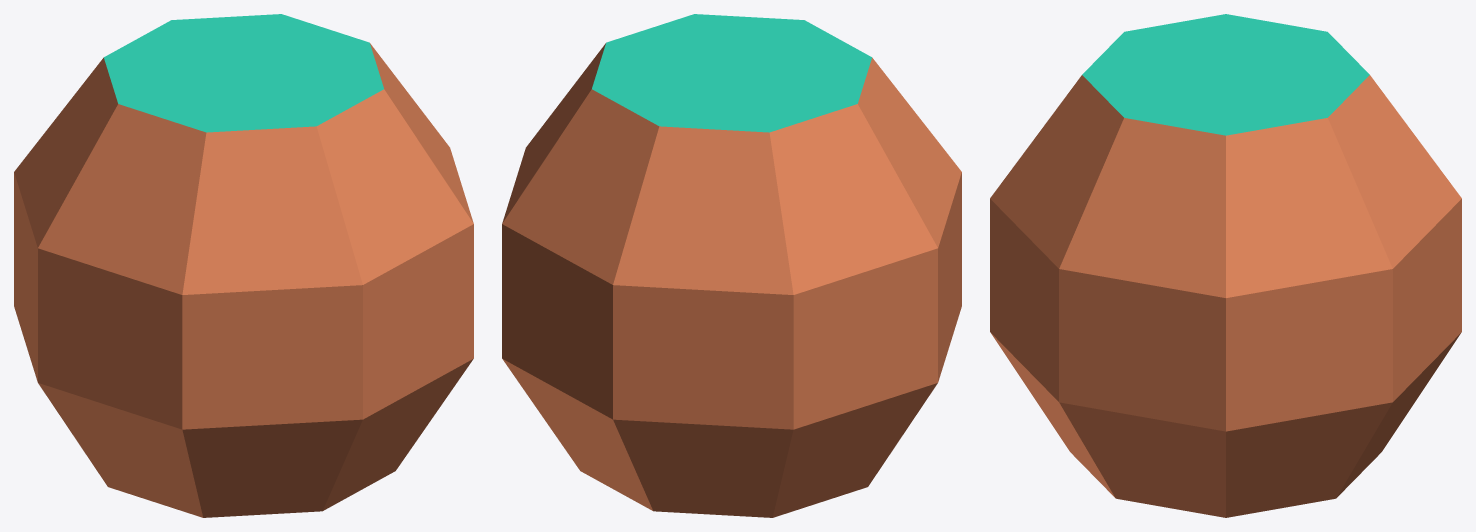
The model's file is rock_smallH.fbx.
3 renders of one model, left to right at view 1: azimuth 30°, elevation 25°; view 2: azimuth 150°, elevation 25°; view 3: azimuth 270°, elevation 25°, orthographic.
Visible parts, largest first — view 1: rock_smallH; view 2: rock_smallH; view 3: rock_smallH.
Boxes of the visible parts, bbox=[...] form: rock_smallH: bbox=[14, 14, 473, 517]; rock_smallH: bbox=[502, 14, 961, 517]; rock_smallH: bbox=[990, 14, 1461, 517].
Size of the model in its own units: 4.62 by 4.07 by 4.62.
